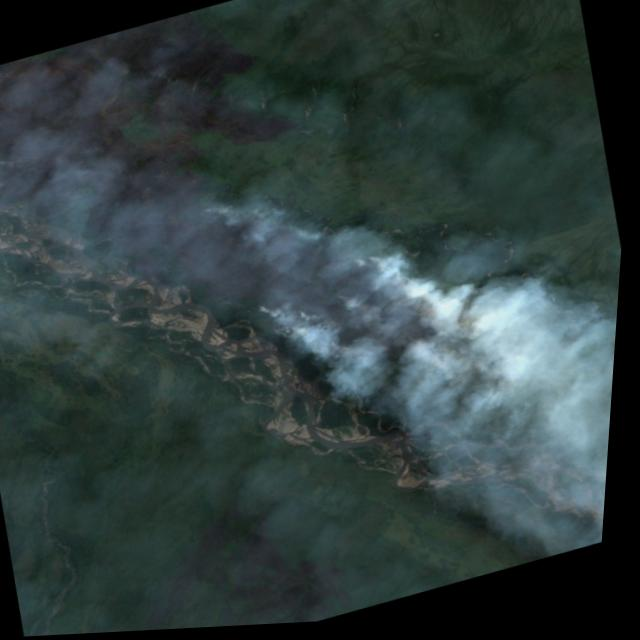fire: (245, 228, 478, 416)
